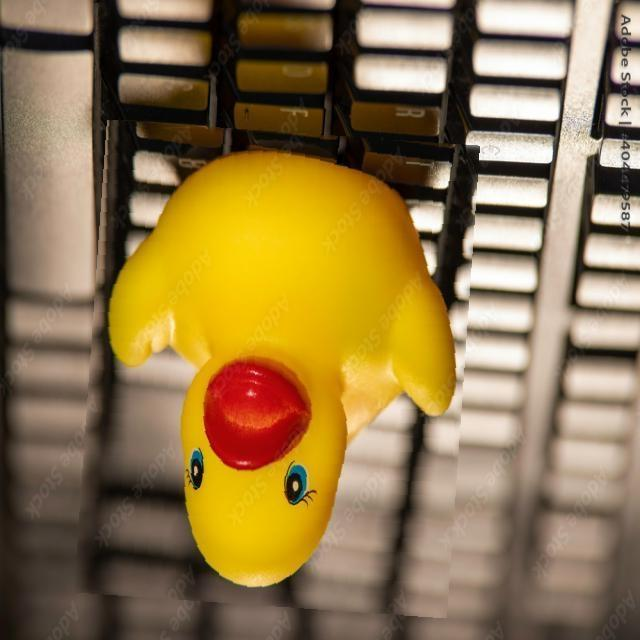rubber-duck: (108, 150, 453, 585)
